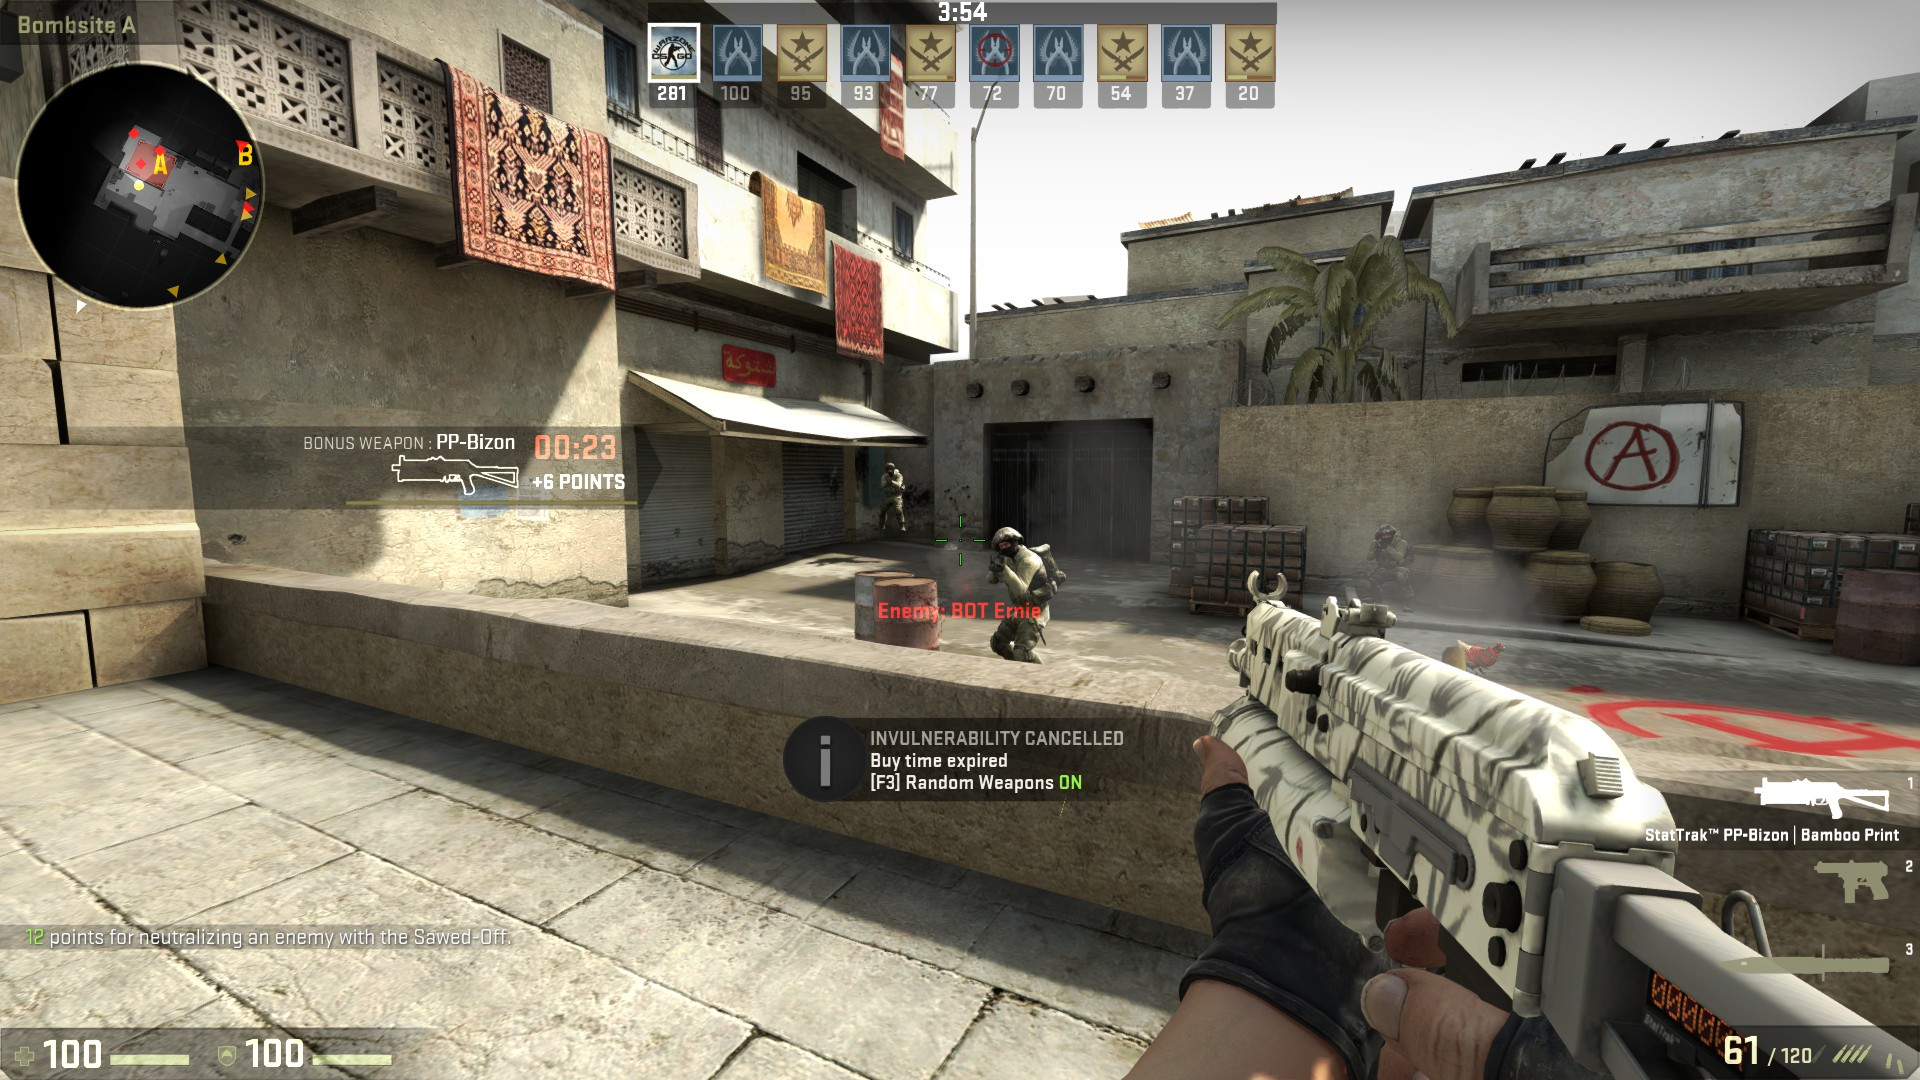c: (986, 524, 1055, 663), (1365, 522, 1415, 607), (878, 462, 909, 533)
ch: (992, 524, 1025, 559), (1375, 521, 1400, 547), (884, 462, 898, 476)
